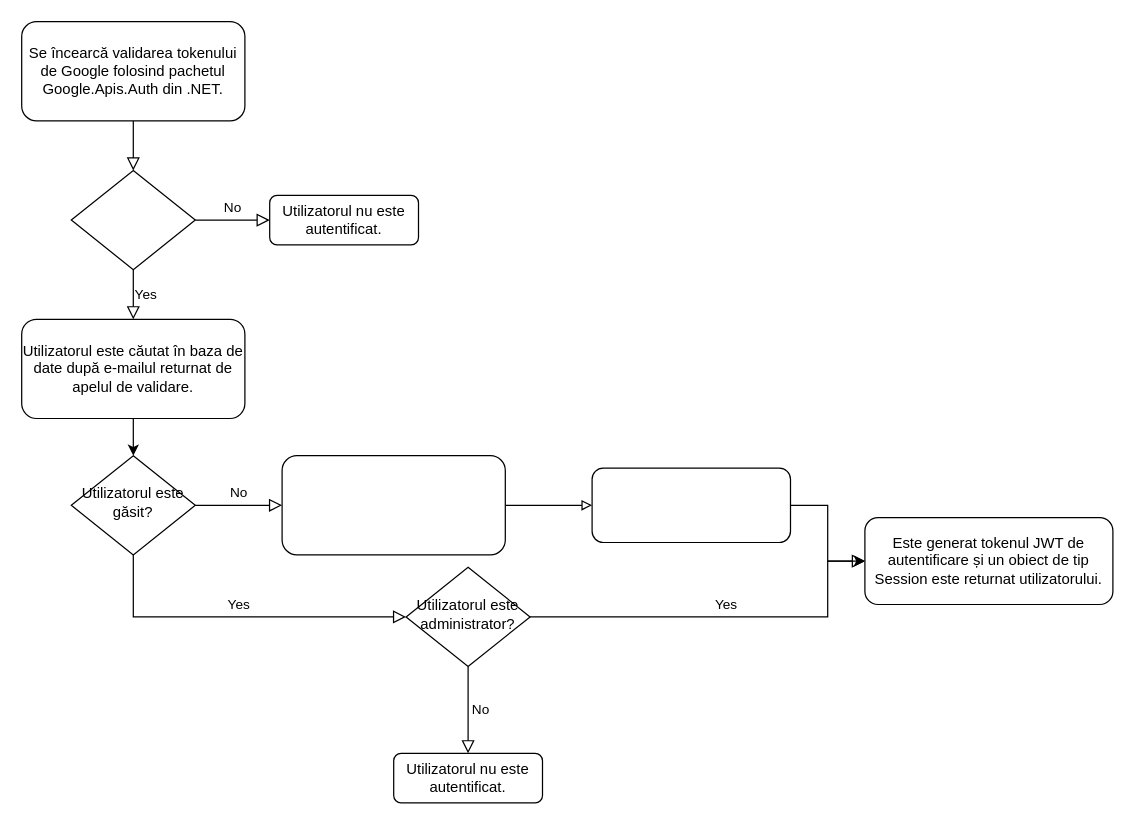
Image size: 1135x825. Some labels were removed from this diagram. Each missing label, with the centre of its shape:
Tokenul este valid?: (x=132, y=219)
Un nou utilizator este creat folosind datele contului de Google validat.: (x=393, y=504)
Utilizatorul este adăugat rolurilor "User" și "Member".: (x=690, y=504)
